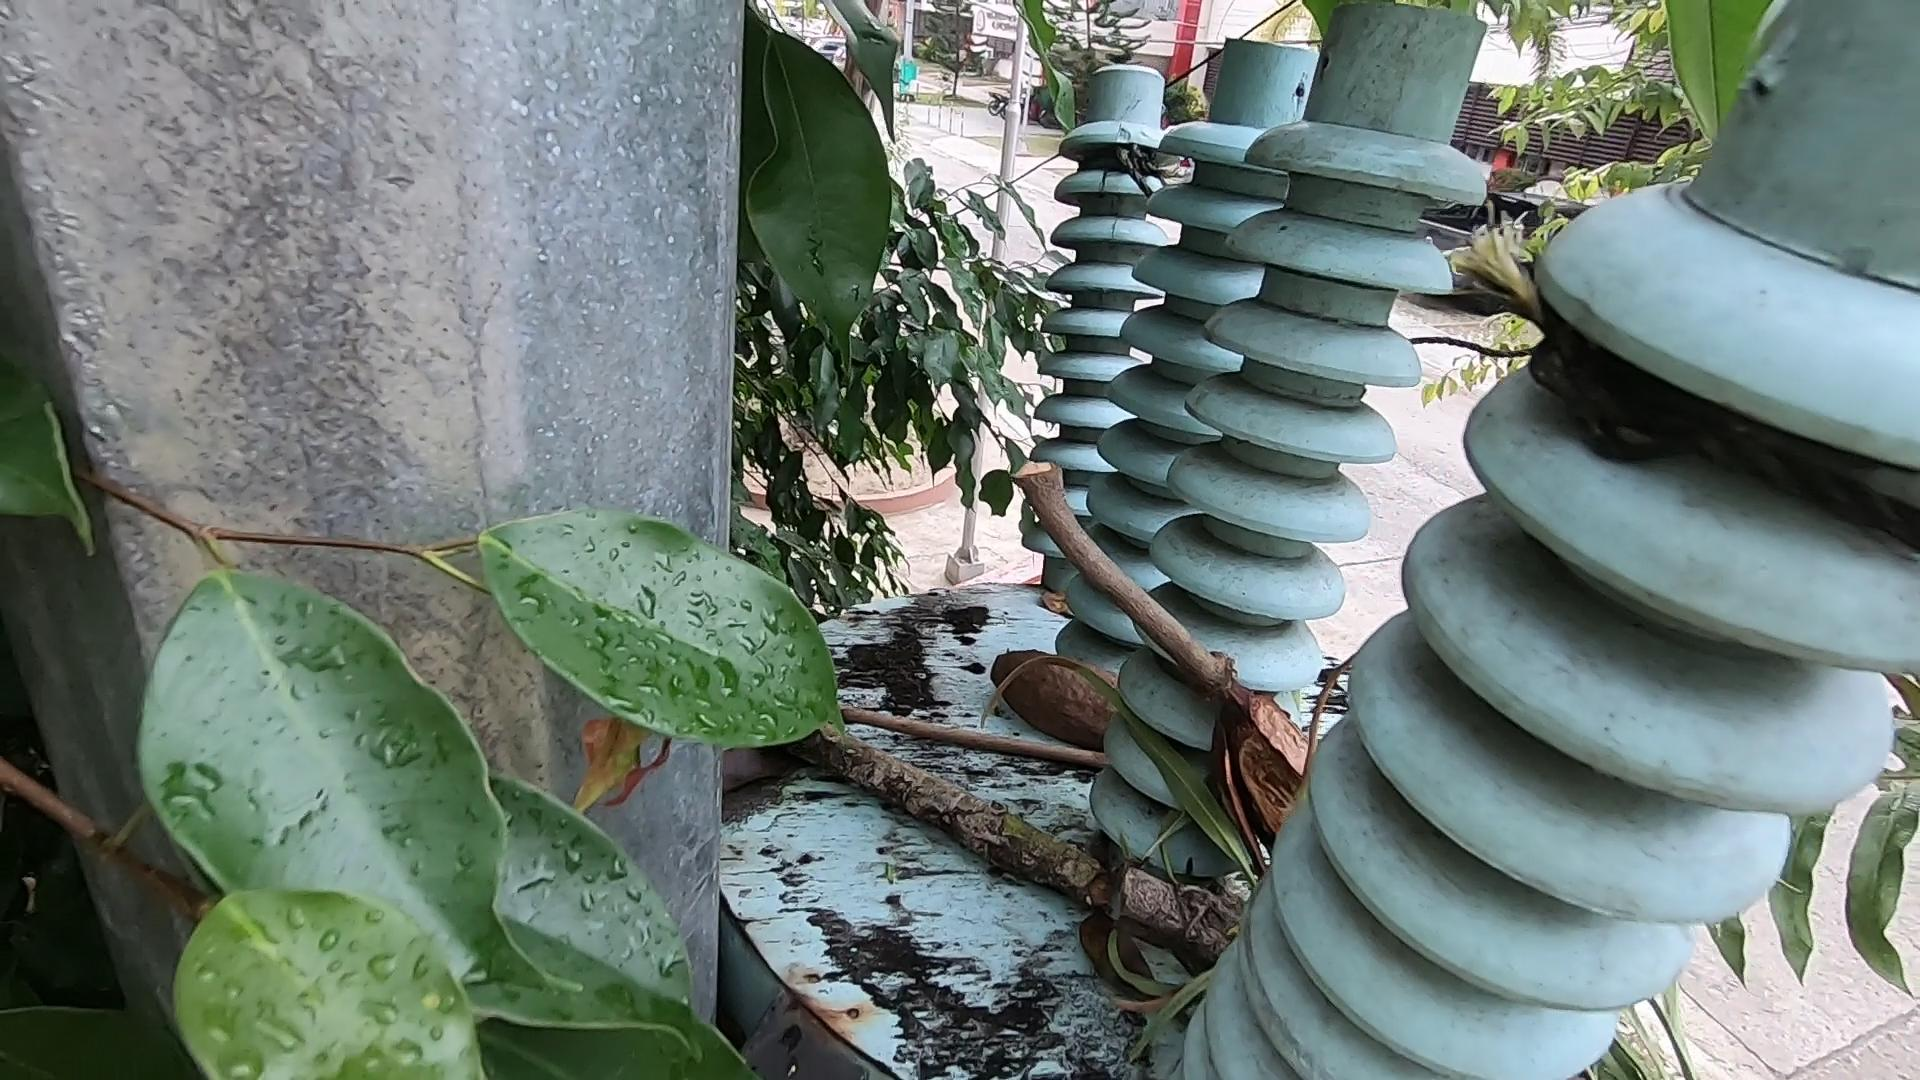branch with leaves: (781, 688, 1328, 1026)
leaf: (1011, 551, 1083, 653), (1093, 916, 1160, 1023)
mahogany fruit: (1150, 636, 1394, 862), (997, 636, 1127, 798)
tree branch: (1006, 440, 1201, 717), (795, 698, 1120, 800)
